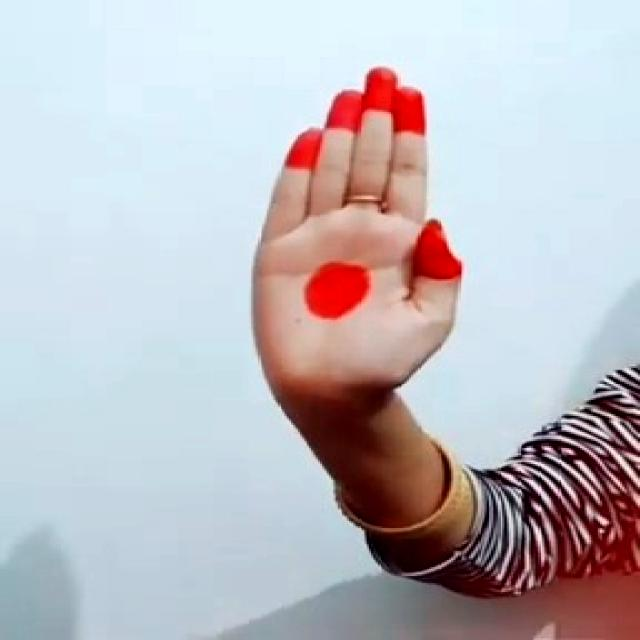Pataka: (259, 56, 464, 398)
bangle: (330, 442, 478, 548)
